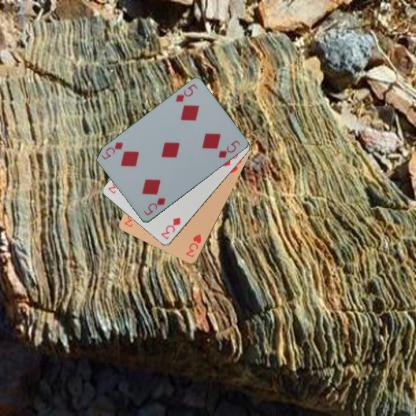3d: (158, 215, 182, 241)
3h: (183, 232, 203, 259)
5d: (140, 196, 167, 218), (173, 82, 199, 103)
